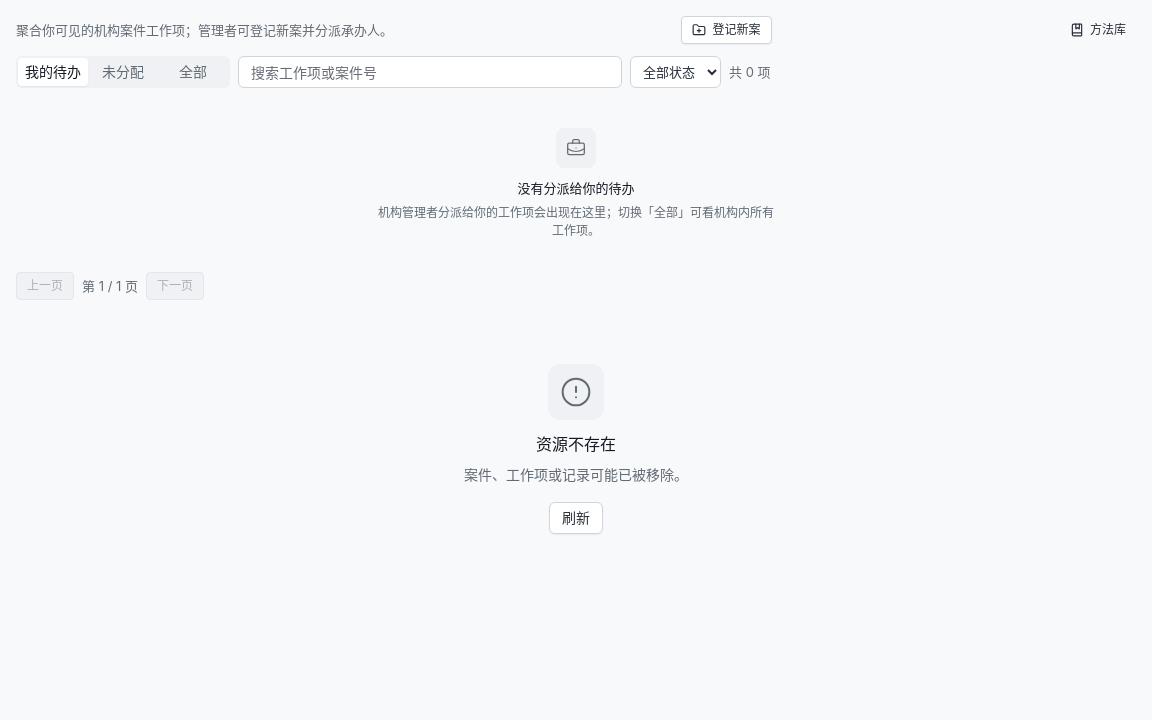
Test: Z11/Z12：机构工作台登记新案 › 非管理员成员 → 提示无权限且禁用提交
This screenshot has width=1152, height=720.
What coordinates should you click on to do the following:
click the button with test id "intake-open"
I would click on:
 (726, 30)
Its box is top-left (682, 16), bottom-right (772, 44).
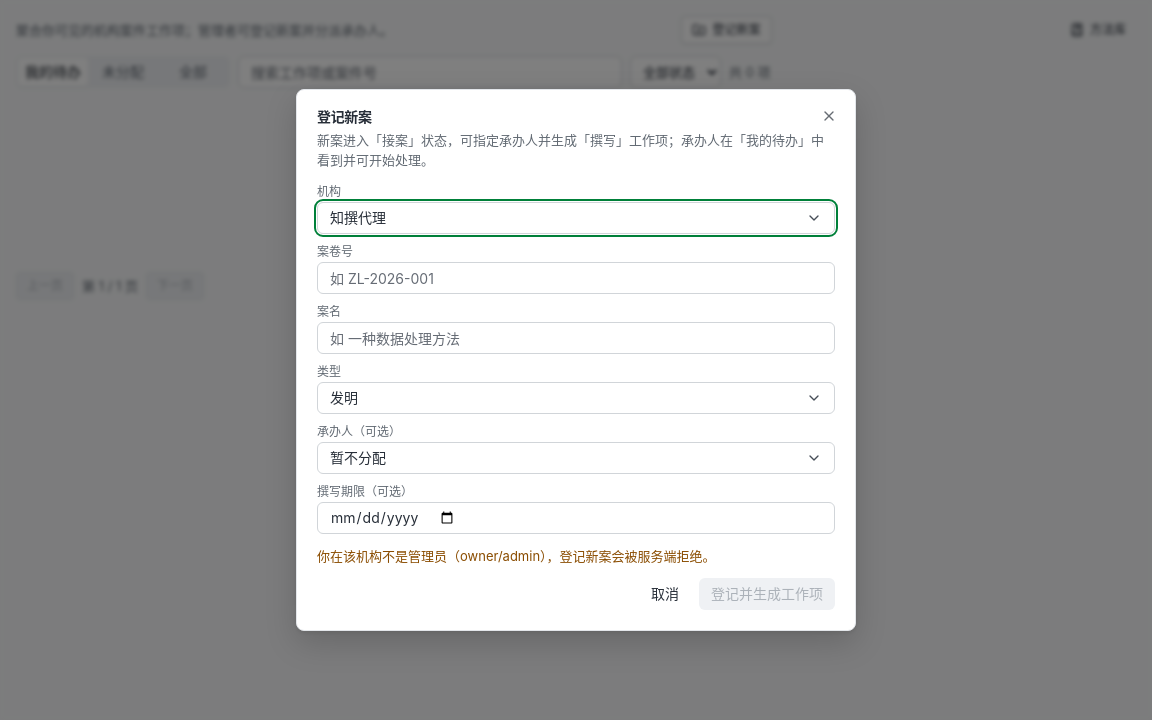
Expected: the message "你在该机构不是管理员（owner/admin），登记新案会被服务端拒绝。" is shown, top-left (317, 548), bottom-right (716, 564)
Expected: the button with test id "intake-submit" is disabled, top-left (699, 578), bottom-right (835, 610)
